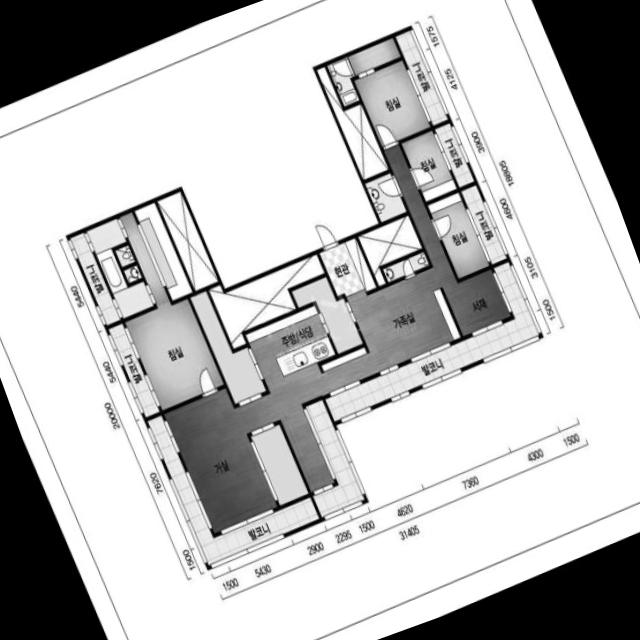background: (0, 0, 640, 640)
space_balconi: (325, 262, 539, 421), (148, 416, 319, 565), (306, 400, 365, 517), (396, 31, 448, 126), (109, 324, 160, 417), (70, 233, 121, 325), (461, 185, 507, 264), (435, 123, 474, 187)
space_bedroom: (120, 213, 224, 410), (348, 38, 431, 147), (428, 193, 489, 279), (402, 130, 457, 201)
space_front: (320, 238, 377, 299)
space_kitchen: (246, 306, 335, 394)
space_living_room: (165, 145, 461, 533)
space_other: (135, 192, 363, 404), (317, 67, 389, 180), (251, 424, 309, 505), (358, 216, 423, 286), (444, 270, 511, 335)
space_toilet: (87, 219, 154, 318), (365, 173, 407, 222), (327, 58, 359, 106), (383, 252, 429, 282)
